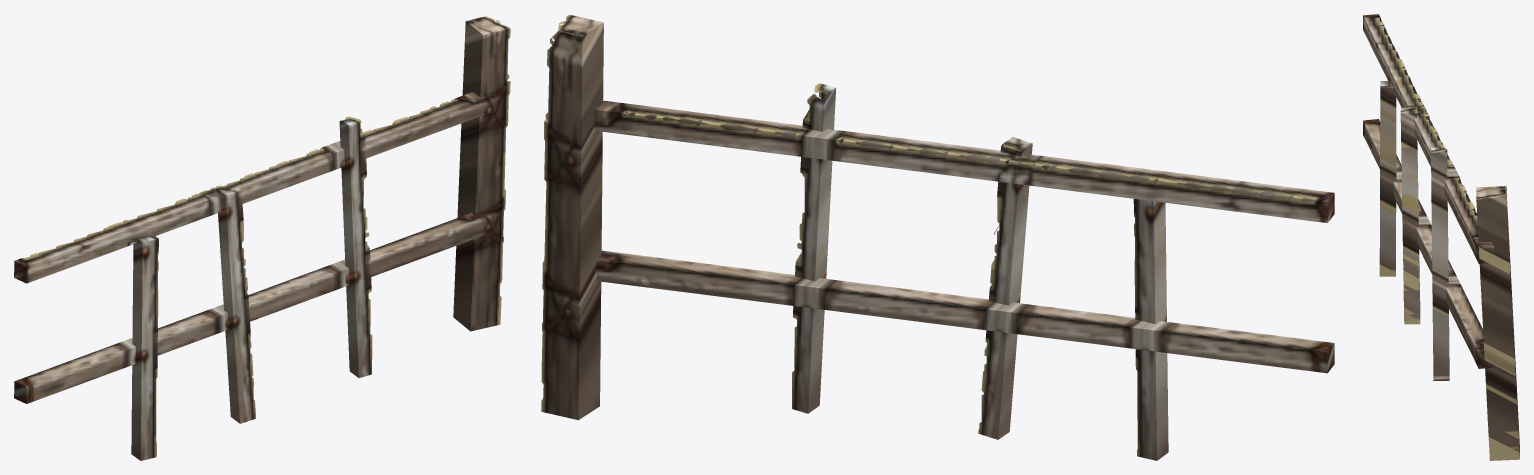
File: fence_15.glb
3 views of the same model, side by side, from view 1: azimuth 30°, elevation 25°; view 2: azimuth 150°, elevation 25°; view 3: azimuth 270°, elevation 25° (orthographic). The views are drawn at different scales.
Visible parts, largest first — view 1: fence_15_game; view 2: fence_15_game; view 3: fence_15_game.
Boxes of the visible parts, <box> form: fence_15_game: <box>14,16,510,460</box>; fence_15_game: <box>541,14,1334,460</box>; fence_15_game: <box>1363,14,1519,460</box>.
Size of the model in its own units: 2.41 by 1.26 by 0.6775.
1 material, 1 textured.
